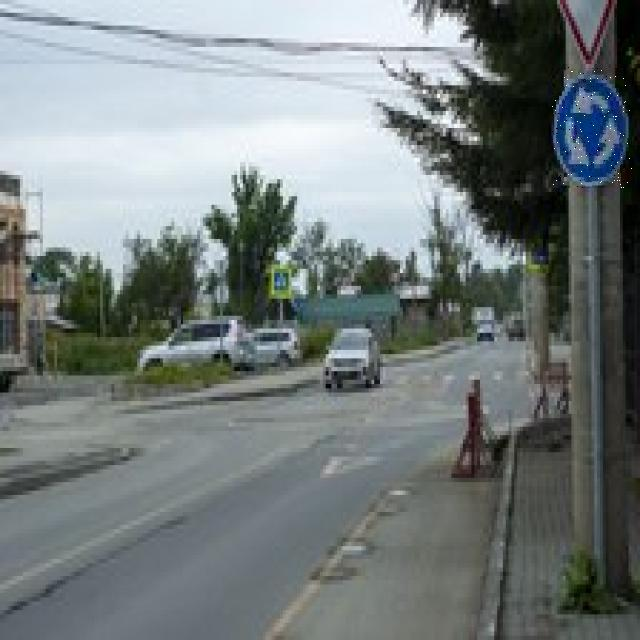roundabout: (552, 67, 632, 188)
